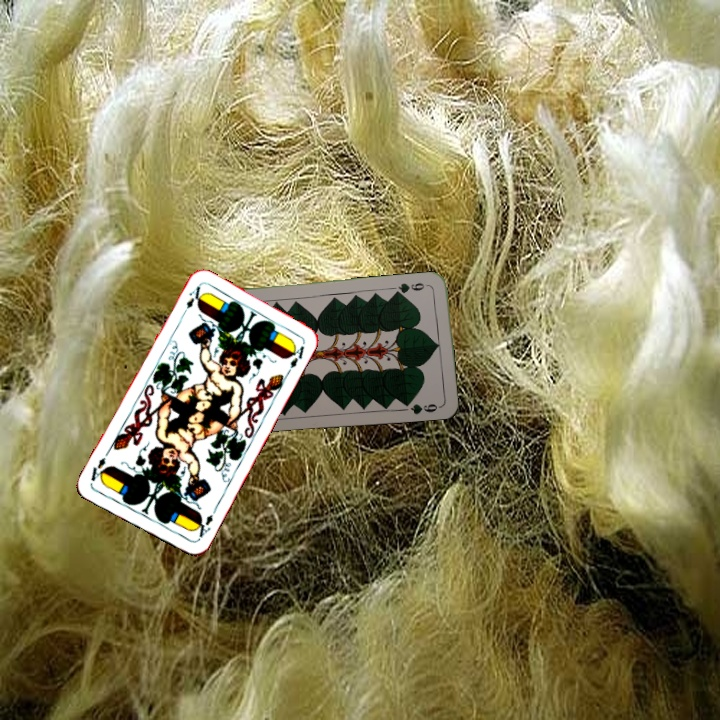EA: (178, 282, 203, 319), (191, 510, 216, 542)
G9: (392, 279, 432, 297)
